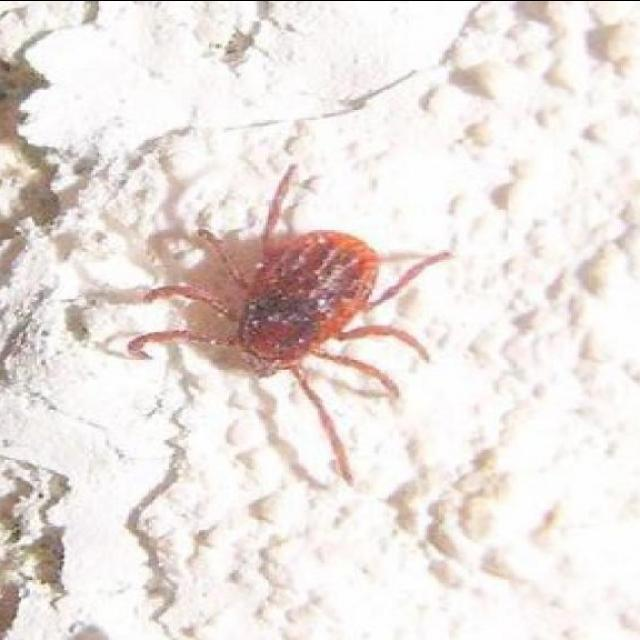Rhipicephalus Sanguineus-F: (87, 182, 451, 474)
